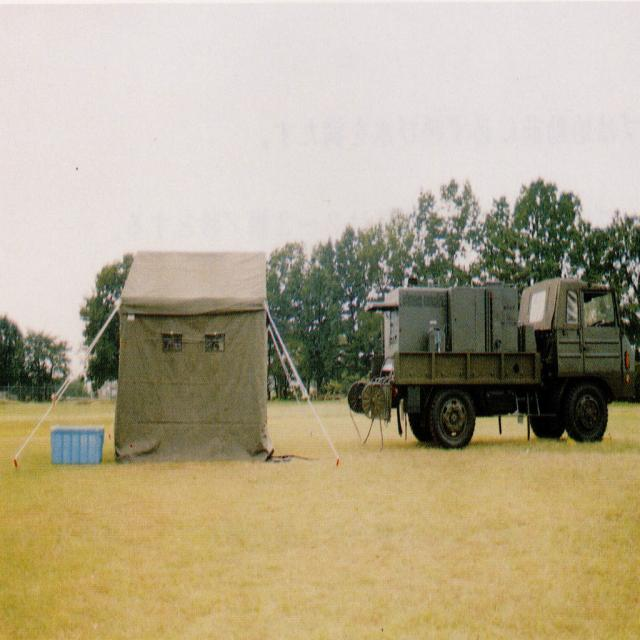Heavy Duty Truck: (348, 272, 636, 452)
